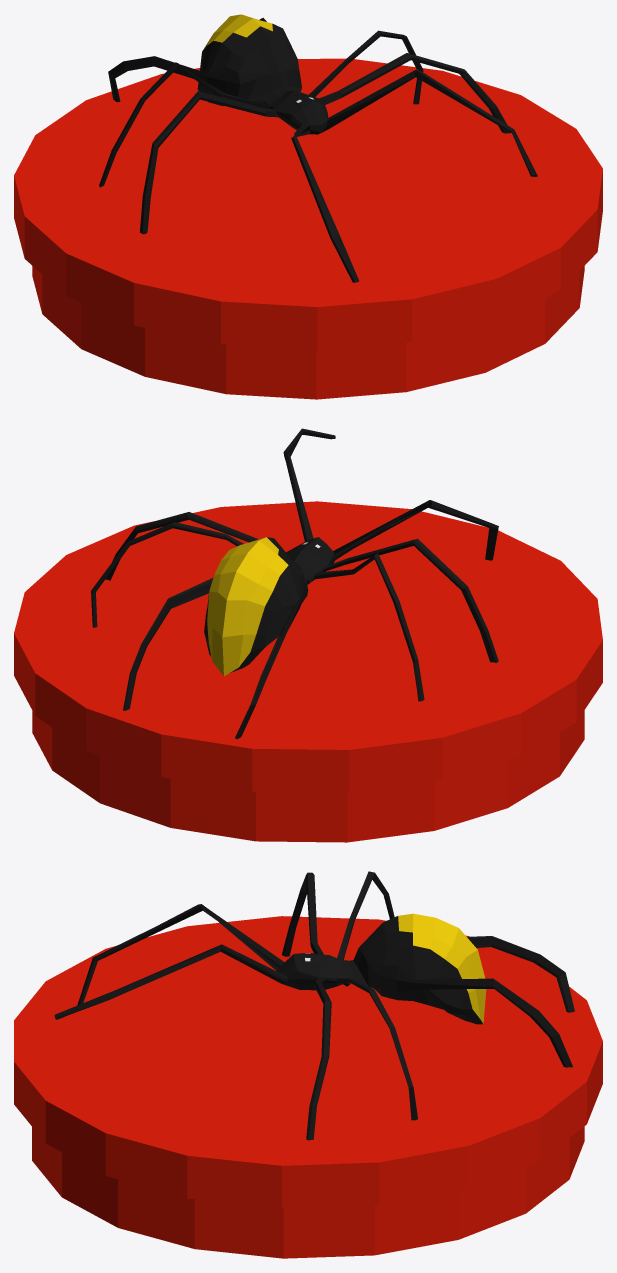
Rendered from Spider.gltf.
3 renders of one model, top to bottom at view 1: azimuth 30°, elevation 25°; view 2: azimuth 150°, elevation 25°; view 3: azimuth 270°, elevation 25°, orthographic.
Parts seen in each view (by area): view 1: Cylinder, Plane; view 2: Cylinder, Plane; view 3: Cylinder, Plane.
Part boxes in pixels (x1,y1,x2,y2): Cylinder: (14, 58, 602, 399); Plane: (99, 14, 537, 282); Cylinder: (14, 501, 602, 842); Plane: (91, 428, 498, 739); Cylinder: (14, 916, 602, 1258); Plane: (54, 871, 574, 1140).
Bounding box in the file's own units: 4.69 × 2 × 4.67.
